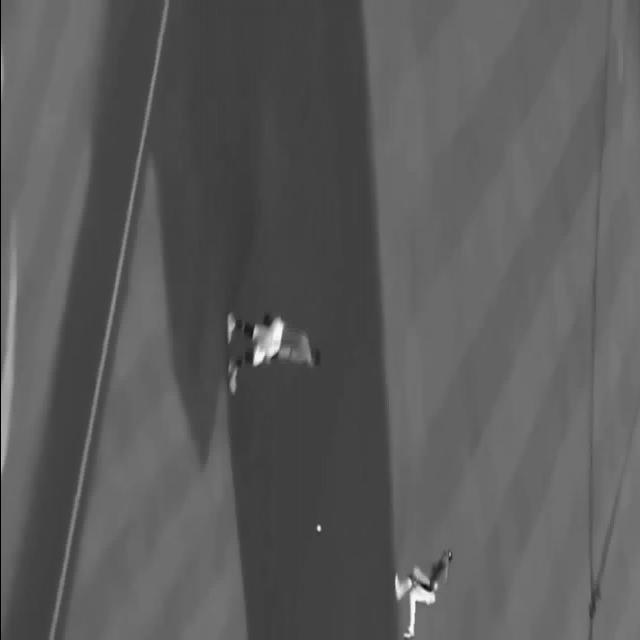baseball: (315, 523, 321, 531)
shoe: (227, 358, 237, 394), (226, 312, 235, 344), (394, 572, 400, 600), (402, 628, 414, 638)
